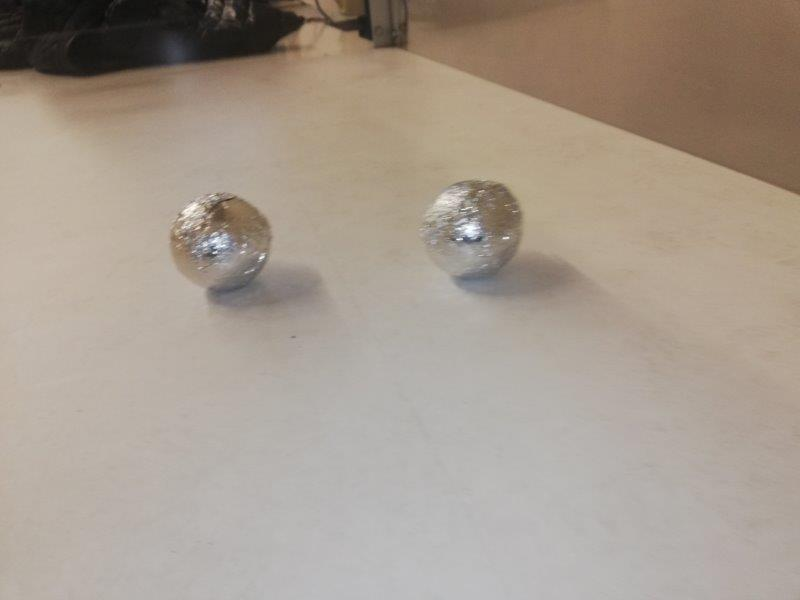bianca: (418, 176, 523, 279), (169, 189, 272, 293)
